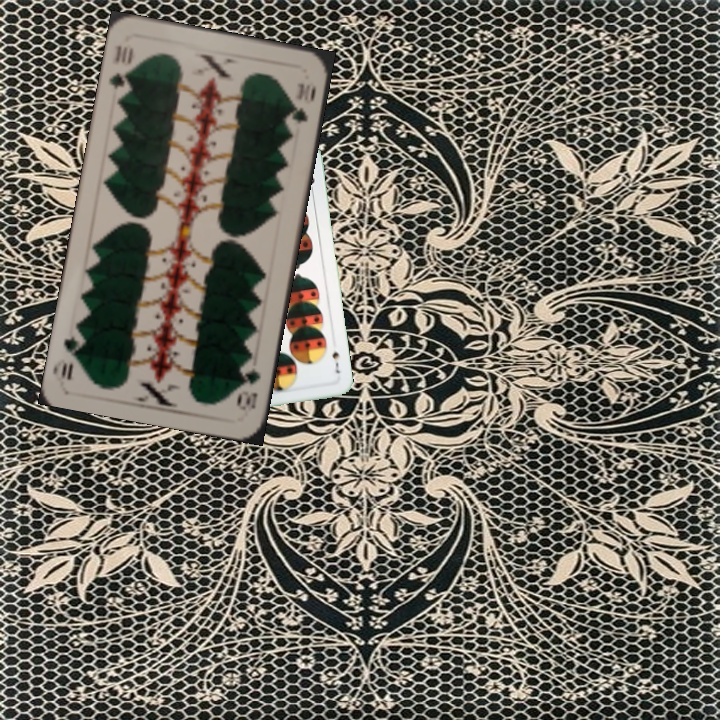G10: (105, 41, 136, 98), (233, 364, 263, 413)
S7: (328, 345, 342, 376)
